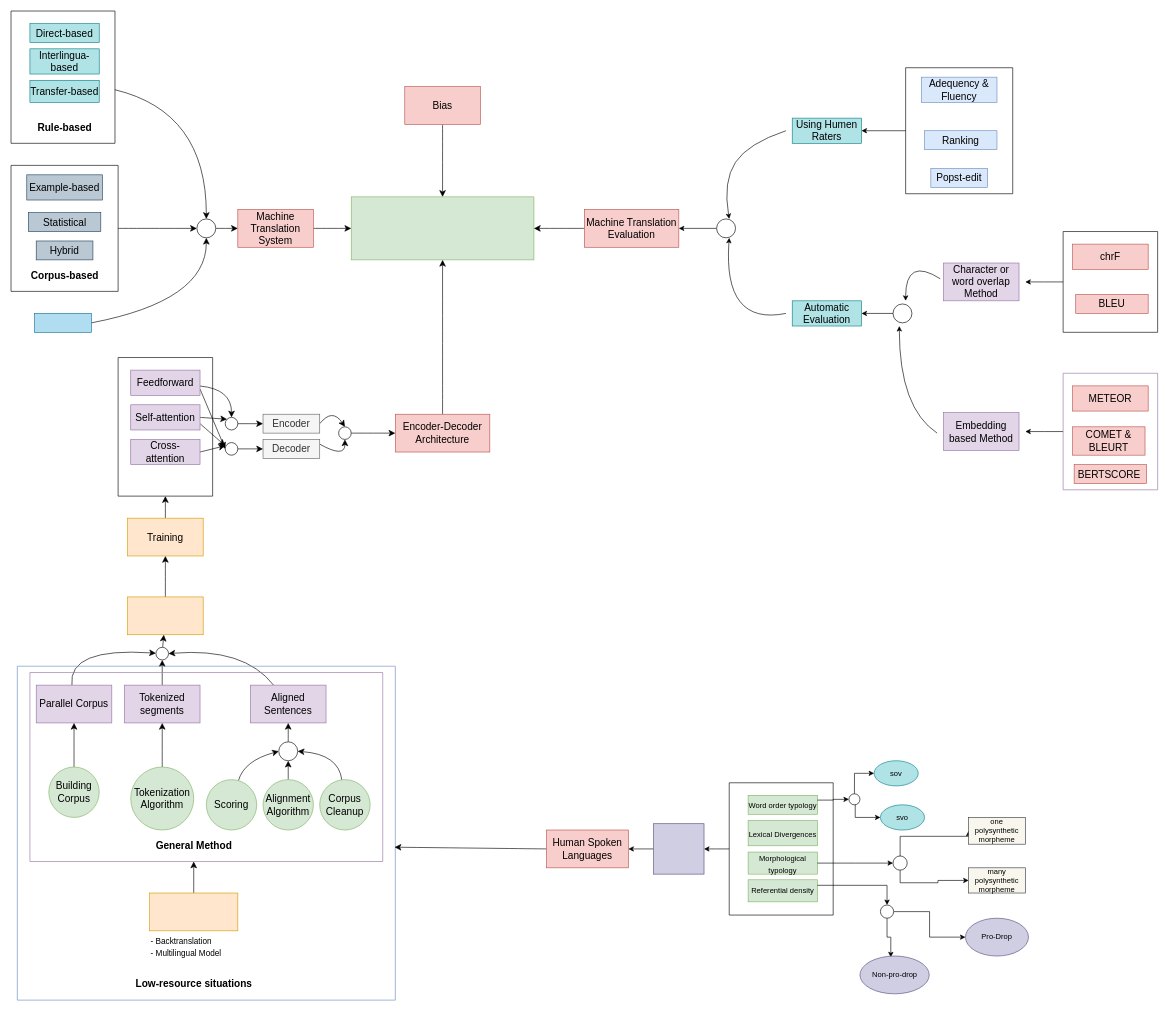
Image size: 1169x1011. Some labels were removed from this diagram. Each missing label, with the centre of its shape:
"Data" belongs at (165,615).
"Data Augmentation" belongs at (193,911).
"Language Divergences & Typology" belongs at (678,848).
"Layers" belongs at (165,426).
"Machine Translation" belongs at (442,228).
"Neural" belongs at (62,322).
